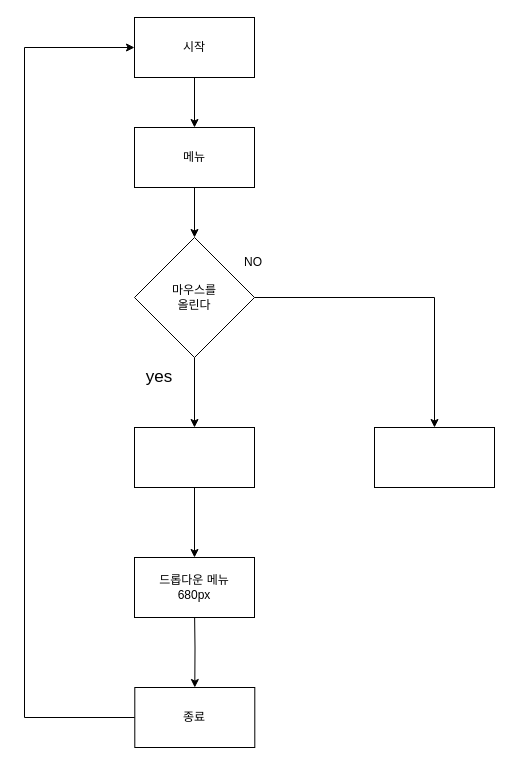
Image size: 512x765. Some labels were removed from this diagram. Here are the shapes that lost their labels. From the top down, the centre of each, then its label:
At (x=194, y=457): "슬라이드 다운 애니메이션".
At (x=434, y=457): "아무련 변화 X".
